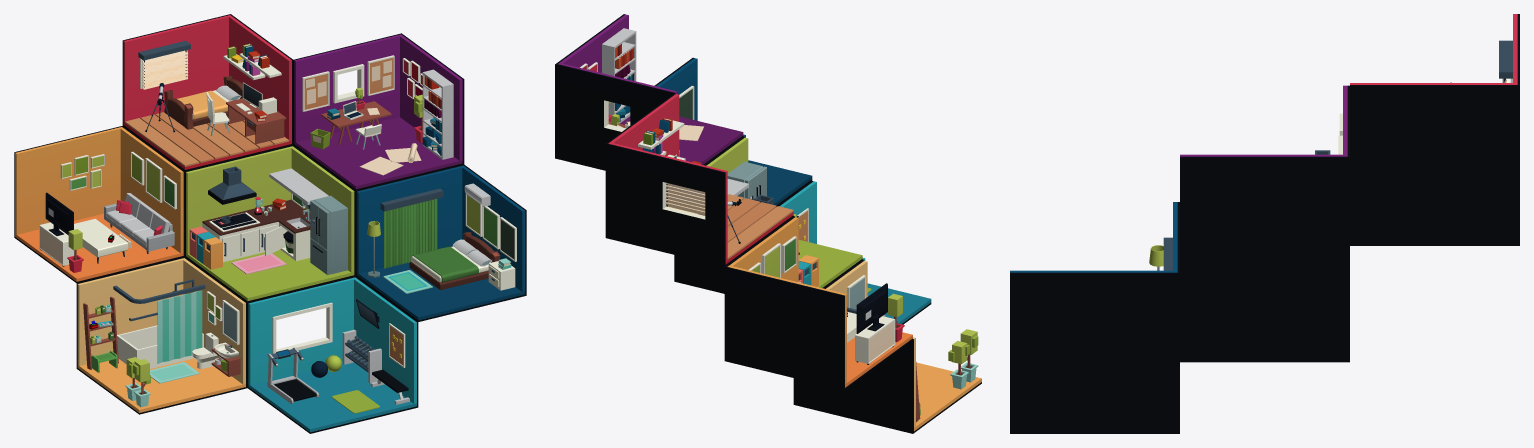
3 views of the same model, side by side, from view 1: azimuth 30°, elevation 25°; view 2: azimuth 150°, elevation 25°; view 3: azimuth 270°, elevation 25° (orthographic). The views are drawn at different scales.
Visible parts, largest first — view 1: Walls (×4), Walls2 (×2), Walls1, Curtain, Fridge, Counter, Bed, BookShelf, Top (×3), Matress, Tub, Carpet (×2) (+28 smaller); view 2: Walls (×4), Walls2 (×2), Walls1, BookShelf, Dresser, TV, Wood_Plank7, Fridge, Wood_Plank1, Picture8, Mirror, Picture3 (+2 smaller); view 3: Walls (×4), Walls2 (×2), Walls1, Top.
Part boxes in pixels (bbox=[...]): Walls (×4): bbox=[14, 126, 526, 414]; Walls2 (×2): bbox=[122, 14, 464, 190]; Walls1: bbox=[247, 276, 418, 433]; Curtain: bbox=[157, 290, 202, 363]; Fridge: bbox=[310, 195, 347, 275]; Counter: bbox=[202, 199, 310, 262]; Bed: bbox=[164, 75, 242, 129]; BookShelf: bbox=[422, 69, 453, 159]; Top (×3): bbox=[138, 40, 391, 128]; Matress: bbox=[411, 246, 488, 282]; Tub: bbox=[117, 325, 203, 368]; Carpet (×2): bbox=[150, 253, 286, 383]; Walls (×4): bbox=[654, 57, 981, 433]; Walls2 (×2): bbox=[555, 14, 793, 266]; Walls1: bbox=[777, 181, 931, 324]; BookShelf: bbox=[602, 28, 636, 123]; Dresser: bbox=[855, 316, 895, 364]; TV: bbox=[856, 283, 887, 333]; Wood_Plank7: bbox=[727, 206, 793, 259]; Fridge: bbox=[727, 161, 766, 199]; Wood_Plank1: bbox=[727, 202, 776, 242]; Picture8: bbox=[762, 243, 780, 277]; Mirror: bbox=[847, 275, 865, 309]; Picture3: bbox=[679, 86, 694, 119]; Walls (×4): bbox=[1010, 202, 1519, 389]; Walls2 (×2): bbox=[1180, 14, 1519, 273]; Walls1: bbox=[1010, 389, 1179, 433]; Top: bbox=[1499, 40, 1512, 78].
Size of the model in its own units: 10.95 by 8.25 by 10.95.
Materials: 342 (342 with a texture image).
